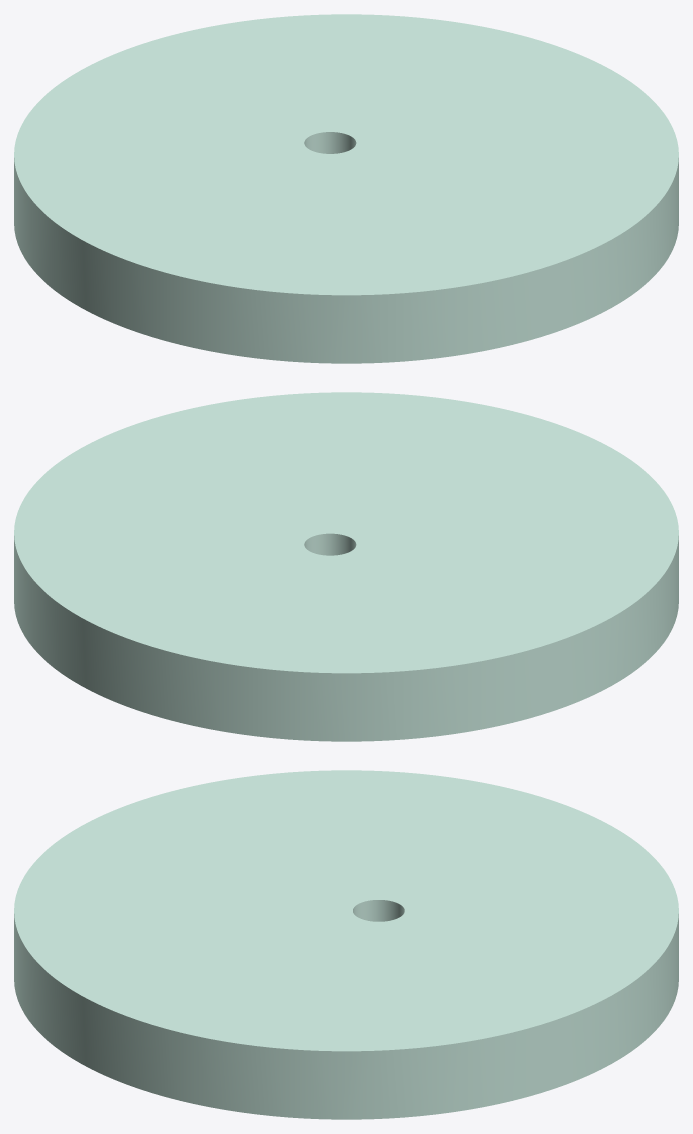
The picture shows the model from 3 angles, top to bottom: view 1: azimuth 30°, elevation 25°; view 2: azimuth 150°, elevation 25°; view 3: azimuth 270°, elevation 25°; orthographic projection.
Parts seen in each view (by area): view 1: Renderer Node; view 2: Renderer Node; view 3: Renderer Node.
Boxes of the visible parts, bbox=[...] form: Renderer Node: bbox=[14, 14, 678, 363]; Renderer Node: bbox=[14, 392, 678, 741]; Renderer Node: bbox=[14, 770, 678, 1119].
Bounding box in the file's own units: 1.52 × 0.2031 × 1.52.
